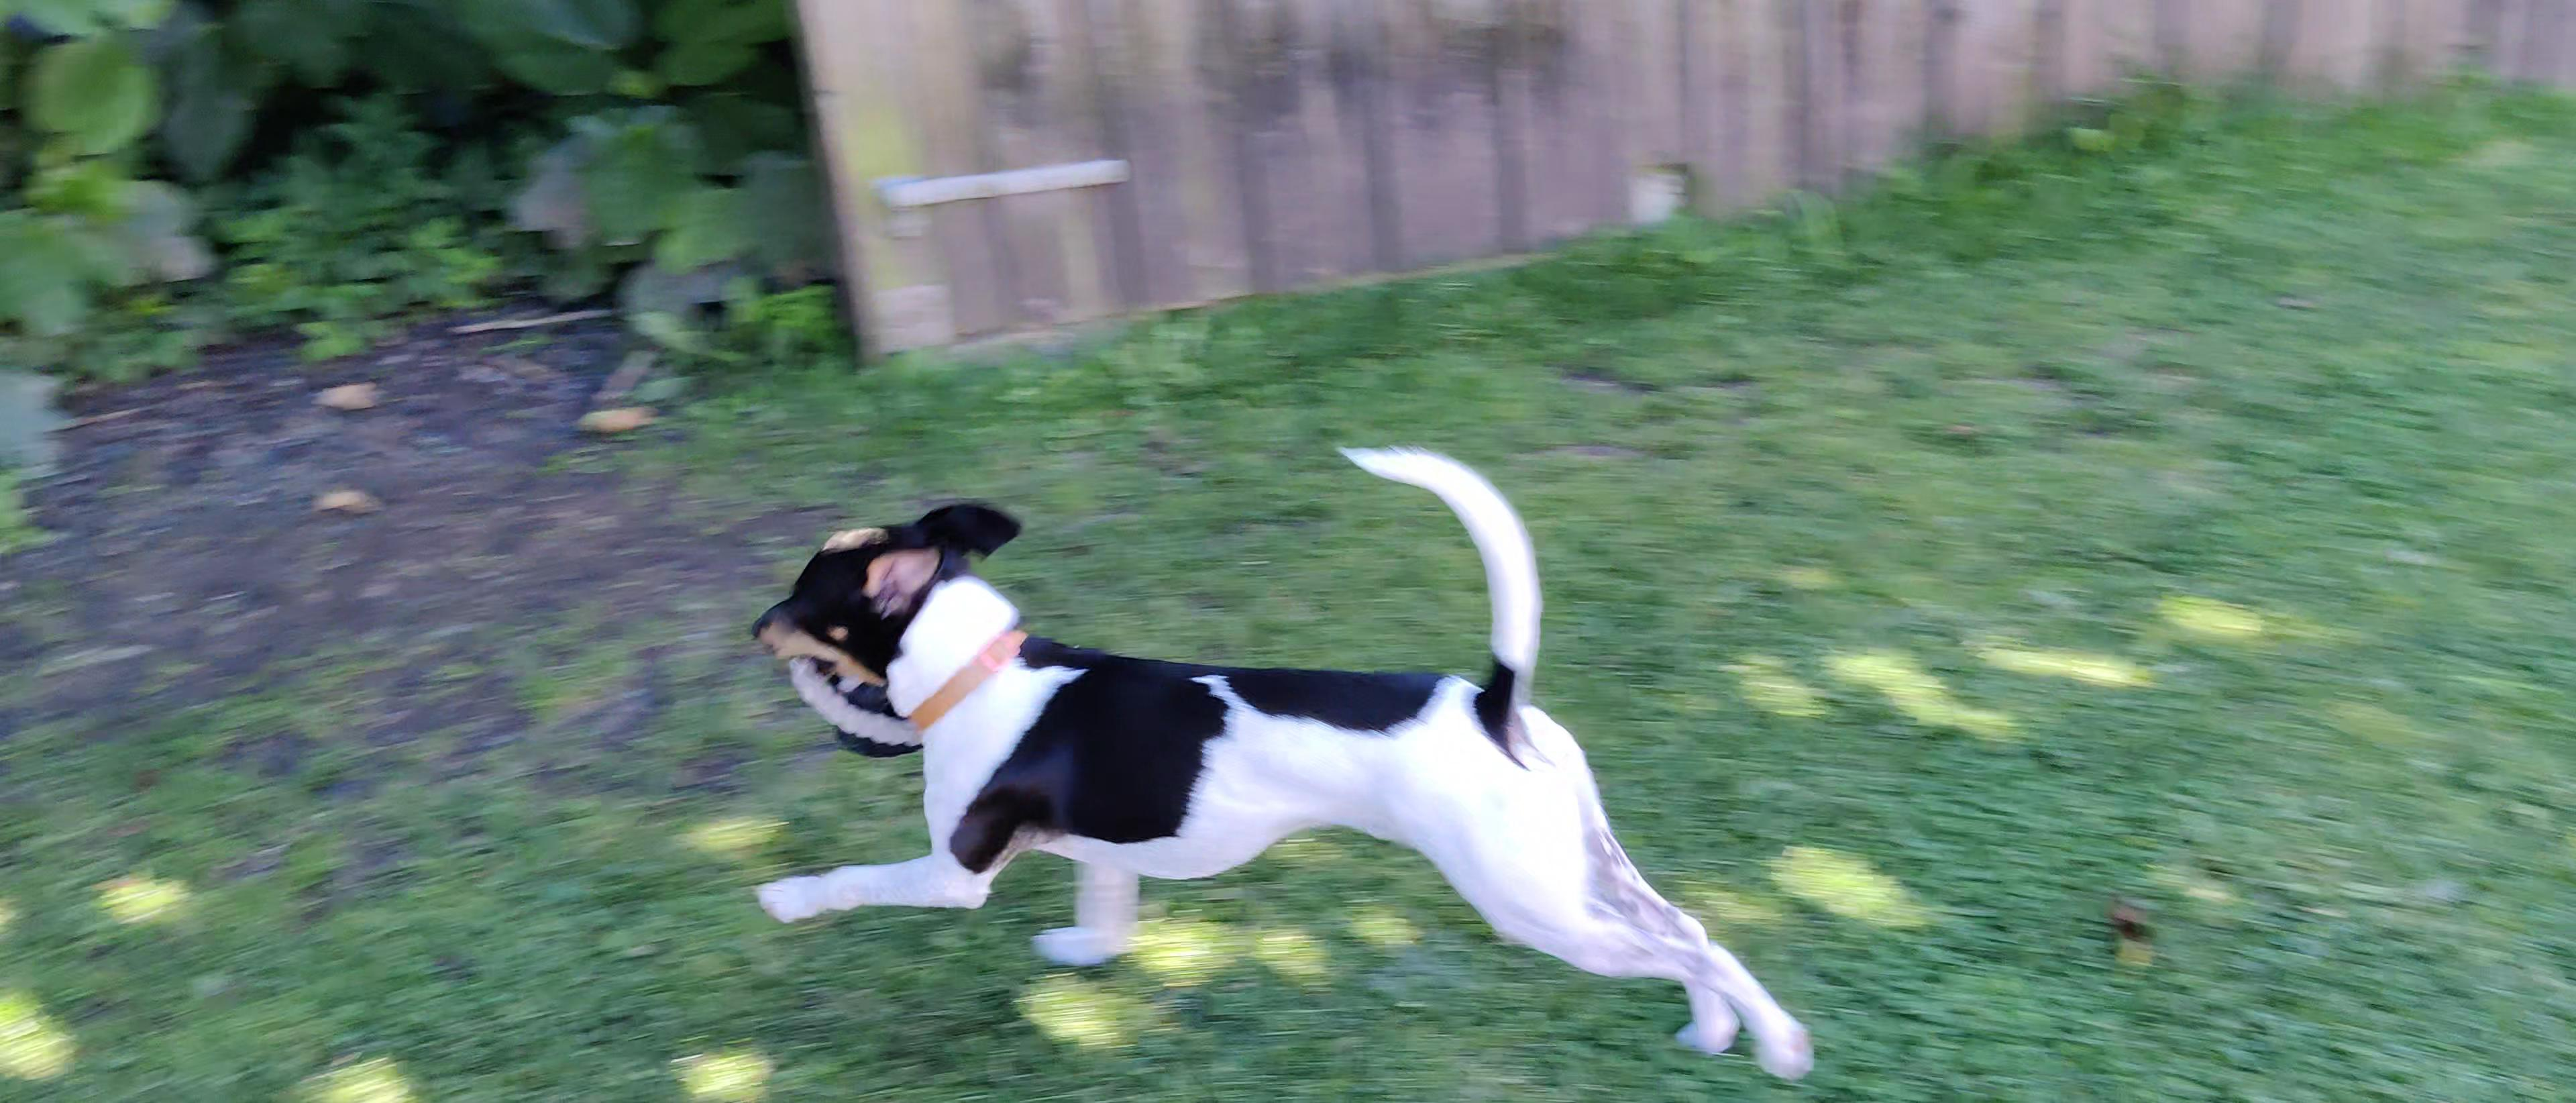Dog: (746, 418, 1824, 1093)
